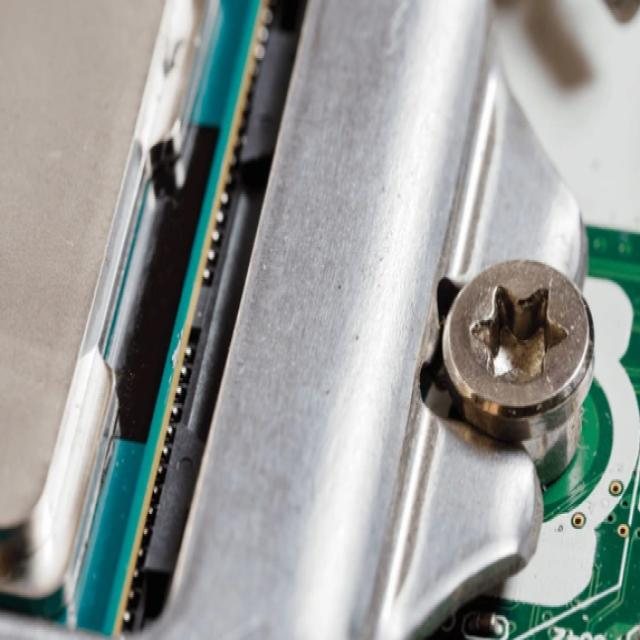Torx: (443, 257, 588, 407)
